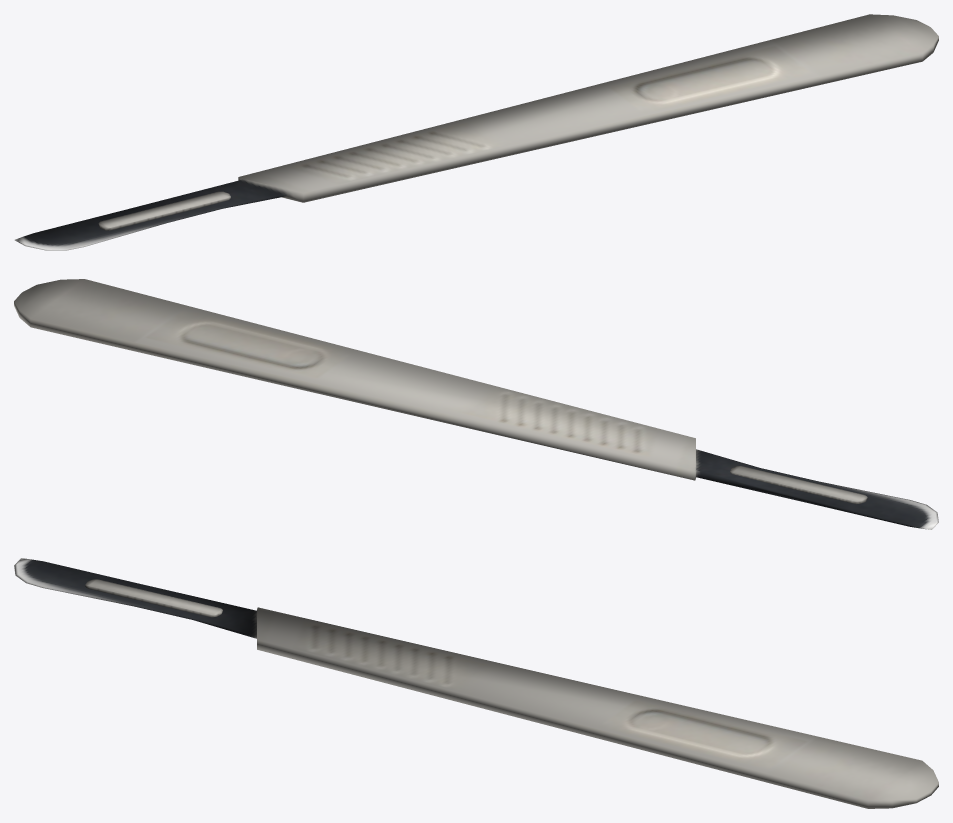
The model's file is Scalpe.FBX.
3 renders of one model, top to bottom at view 1: azimuth 30°, elevation 25°; view 2: azimuth 150°, elevation 25°; view 3: azimuth 330°, elevation 25°, orthographic. The views are drawn at different scales.
Visible parts, largest first — view 1: Scalpel; view 2: Scalpel; view 3: Scalpel.
Boxes of the visible parts, bbox=[...] form: Scalpel: bbox=[14, 14, 938, 250]; Scalpel: bbox=[14, 279, 938, 529]; Scalpel: bbox=[14, 558, 938, 808].
Size of the model in its own units: 64.52 by 0.656 by 6.56.
Materials: 1 (1 with a texture image).
